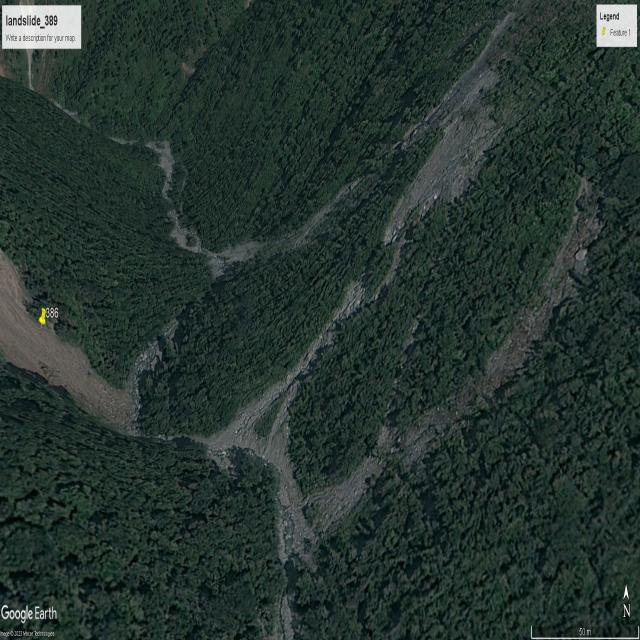Landslide: (5, 258, 126, 425)
